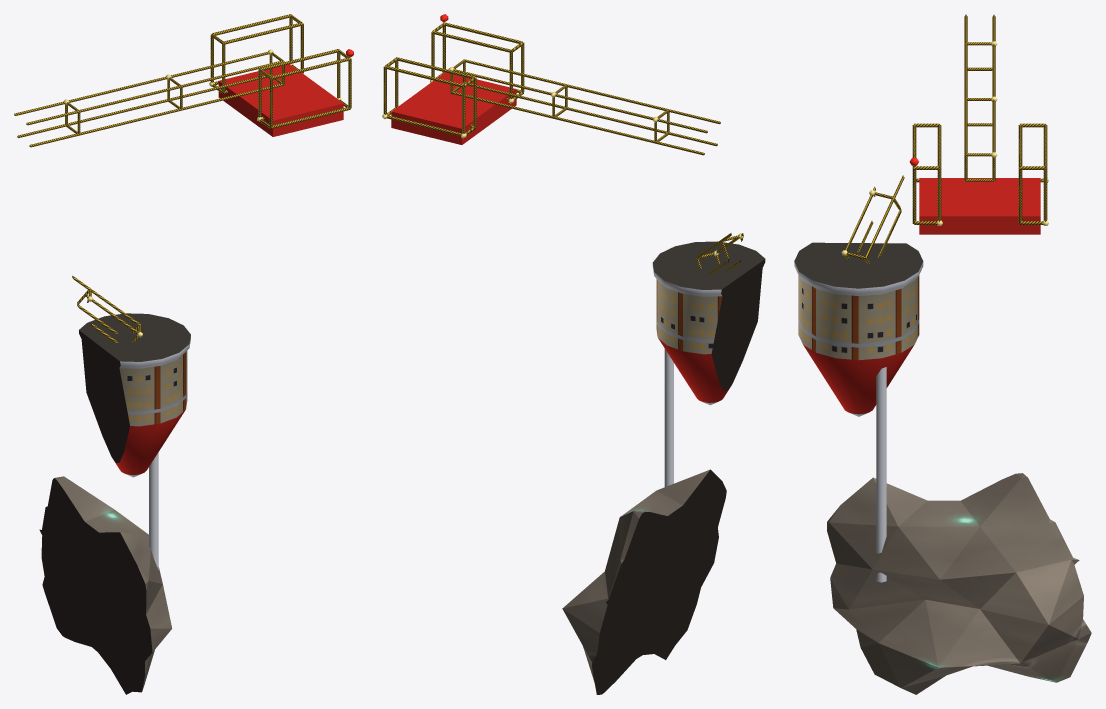
The model's file is mining_facility_build2_debris2.obj.
3 views of the same model, side by side, from view 1: azimuth 30°, elevation 25°; view 2: azimuth 150°, elevation 25°; view 3: azimuth 270°, elevation 25° (orthographic). The views are drawn at different scales.
Parts seen in each view (by area): view 1: rock, hopper, cradle, post, girder, leg; view 2: rock, hopper, cradle, girder, post, leg; view 3: rock, hopper, cradle, girder, leg, post.
Boxes of the visible parts, <box> form: rock: <box>39,476,172,694</box>; hopper: <box>79,313,190,477</box>; cradle: <box>218,64,343,136</box>; post: <box>14,51,283,342</box>; girder: <box>65,14,351,342</box>; leg: <box>149,452,158,569</box>; rock: <box>562,469,726,694</box>; hopper: <box>652,241,765,405</box>; cradle: <box>391,72,516,144</box>; girder: <box>383,22,742,268</box>; post: <box>451,59,743,274</box>; leg: <box>664,349,673,486</box>; rock: <box>827,473,1091,694</box>; hopper: <box>794,242,923,416</box>; cradle: <box>919,178,1040,234</box>; girder: <box>845,42,1047,264</box>; leg: <box>876,367,886,582</box>; post: <box>845,14,995,258</box>.
Size of the model in its own units: 77.06 by 144 by 58.94.
9 materials, 3 textured.
